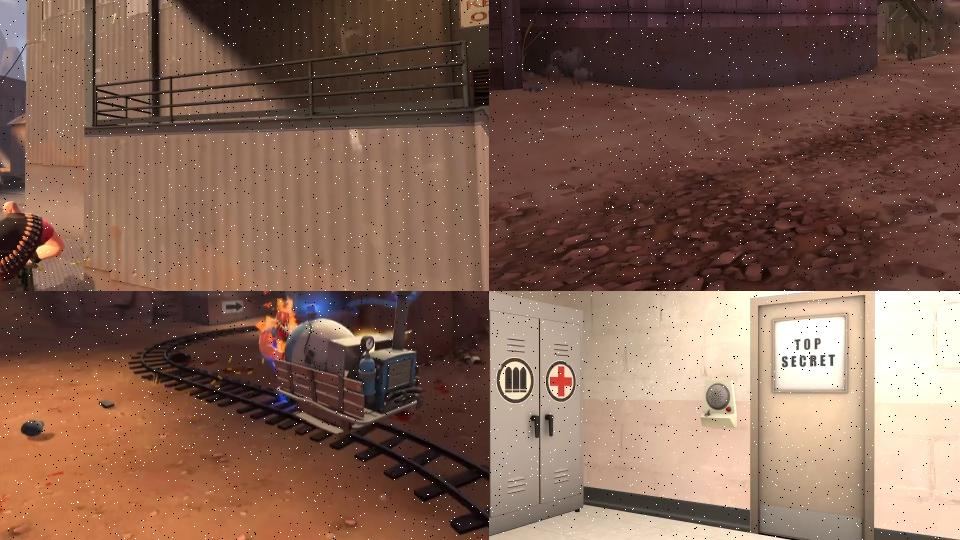Enemy: (0, 197, 68, 291), (0, 167, 8, 211), (901, 40, 917, 62)
